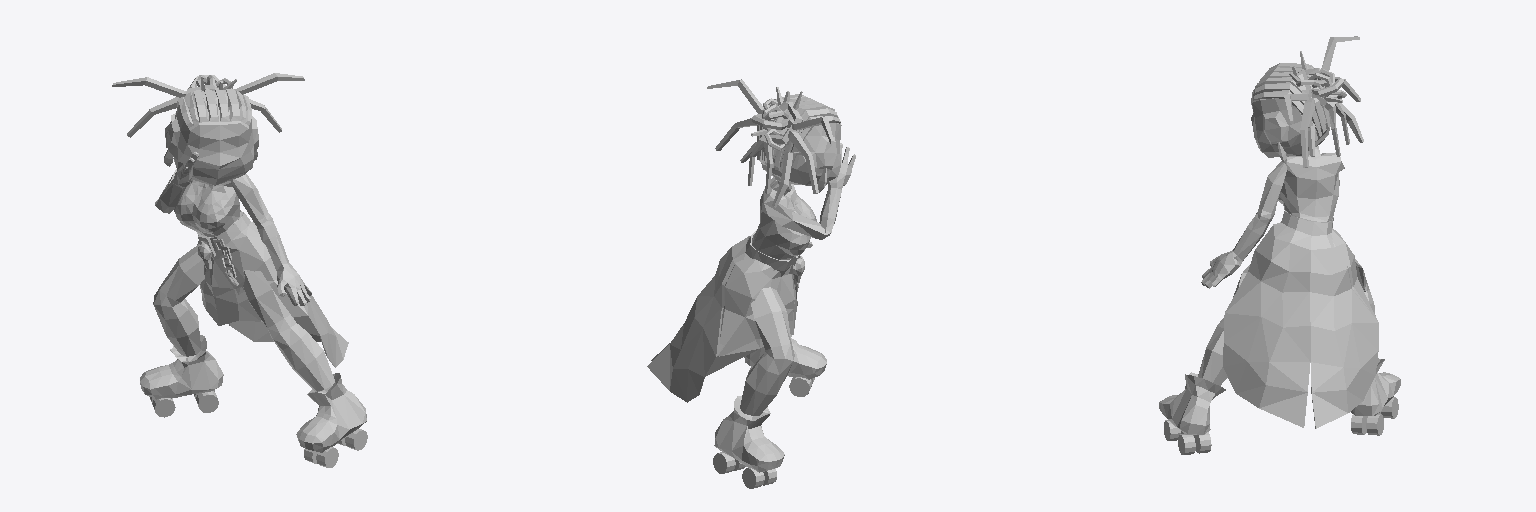
The model's file is bruja_000045.obj.
3 renders of one model, left to right at view 1: azimuth 30°, elevation 25°; view 2: azimuth 150°, elevation 25°; view 3: azimuth 270°, elevation 25°, orthographic.
Visible parts, largest first — view 1: Bruja_Plane.001; view 2: Bruja_Plane.001; view 3: Bruja_Plane.001.
Boxes of the visible parts, <box> form: Bruja_Plane.001: <box>112,73,367,467</box>; Bruja_Plane.001: <box>647,79,855,488</box>; Bruja_Plane.001: <box>1159,36,1400,454</box>.
Bounding box in the file's own units: 9.26 × 15.44 × 9.25.